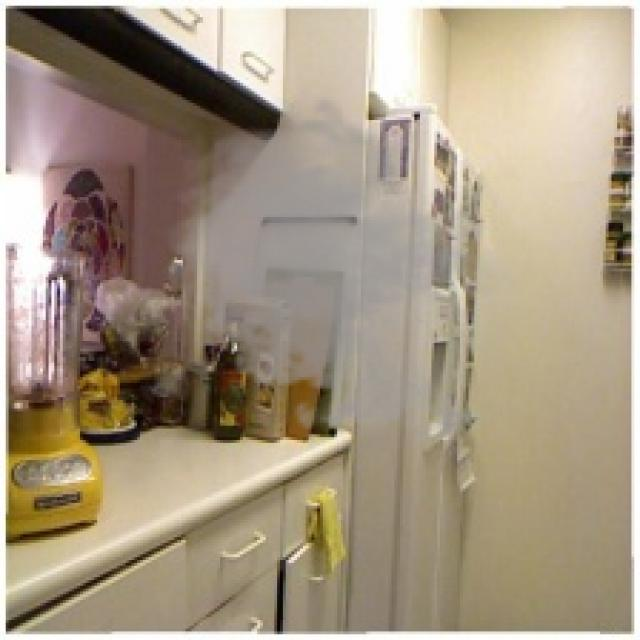smoke: (154, 94, 540, 452)
